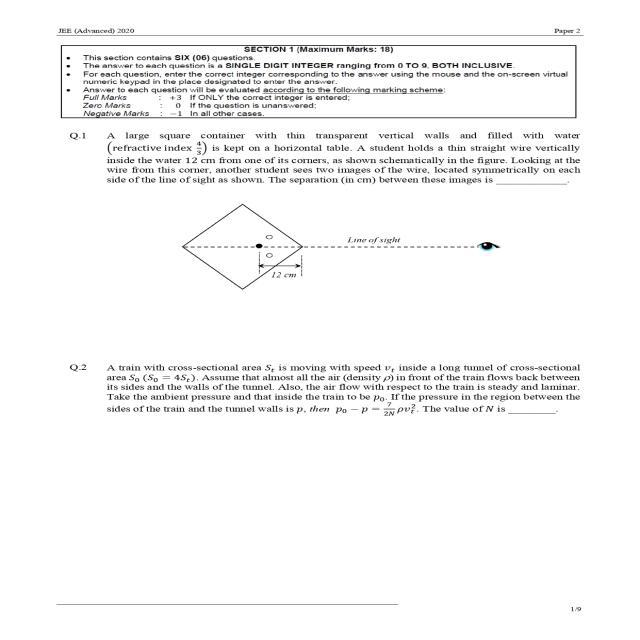Instruction: (30, 38, 622, 117)
Question_Answer_Block: (30, 120, 622, 316), (30, 350, 624, 450)
Question_Block: (30, 122, 622, 316), (31, 354, 622, 444)
Question_Paper_Area: (33, 39, 626, 470)
